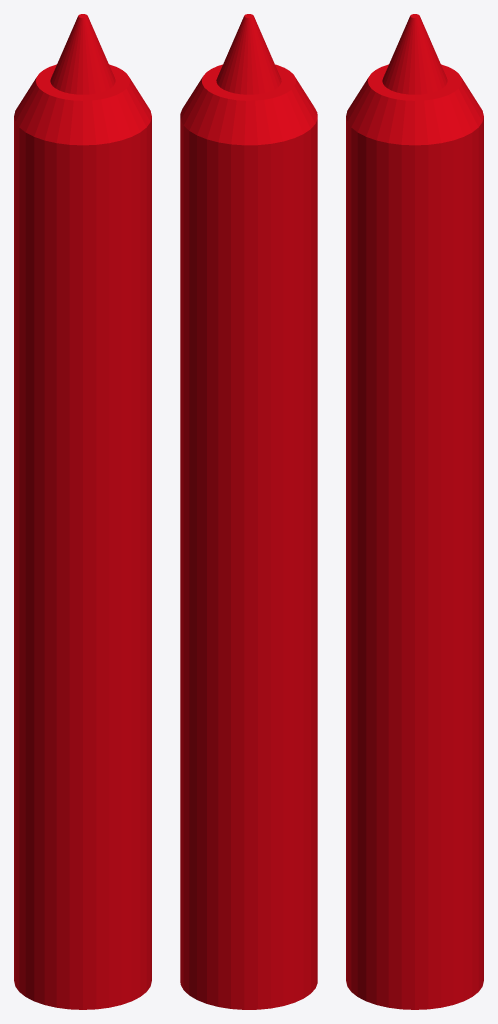
Rendered from dart2.gltf.
3 views of the same model, side by side, from view 1: azimuth 90°, elevation 25°; view 2: azimuth 210°, elevation 25°; view 3: azimuth 270°, elevation 25° (orthographic).
Parts seen in each view (by area): view 1: Cylinder; view 2: Cylinder; view 3: Cylinder.
Part boxes in pixels (x1,y1,x2,y2): Cylinder: [14, 14, 151, 1009]; Cylinder: [180, 14, 317, 1009]; Cylinder: [346, 14, 483, 1009].
Size of the model in its own units: 0.296 by 2.28 by 0.296.
